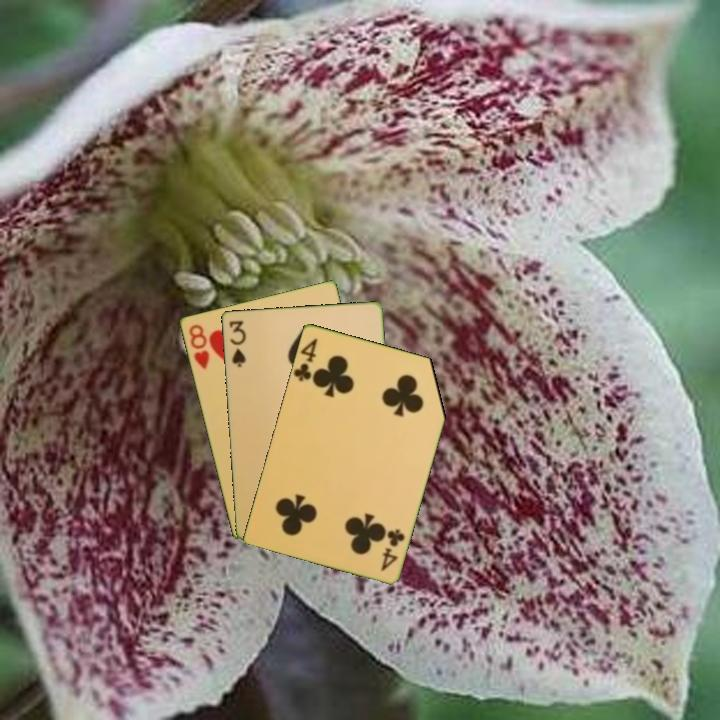3s: (226, 317, 248, 369)
4c: (290, 334, 320, 384), (377, 525, 408, 573)
8h: (185, 320, 212, 372)
